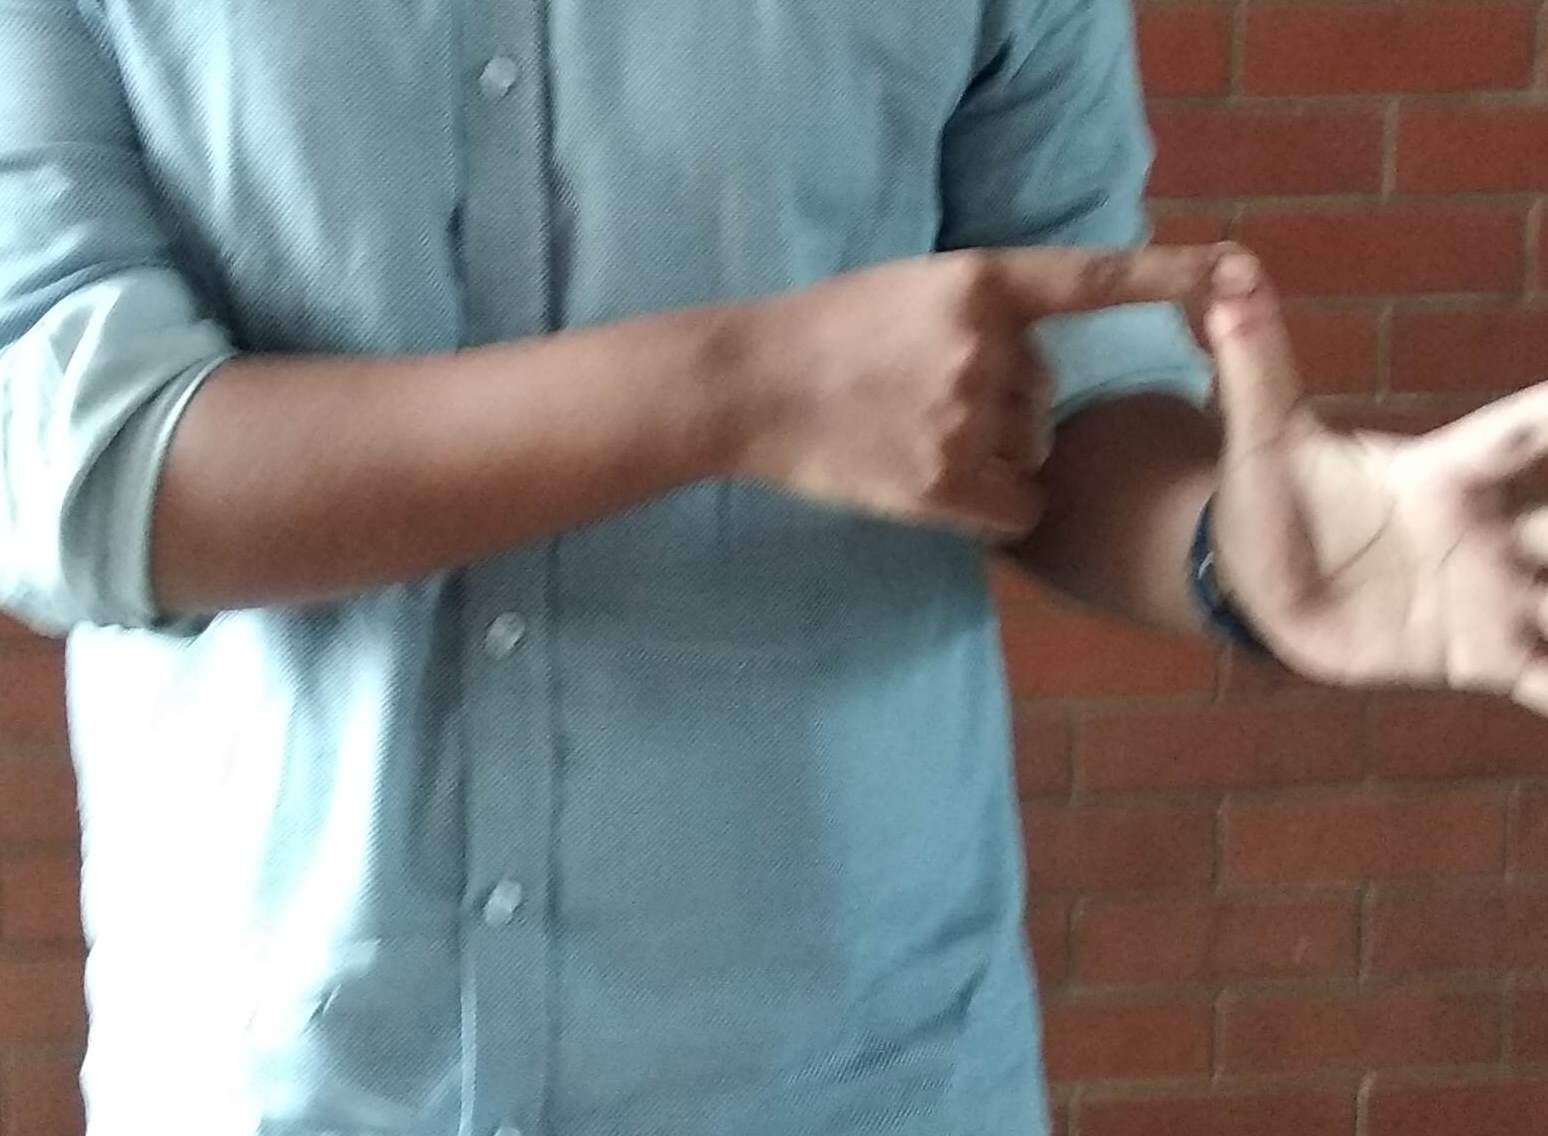a: (905, 214, 1548, 753)
